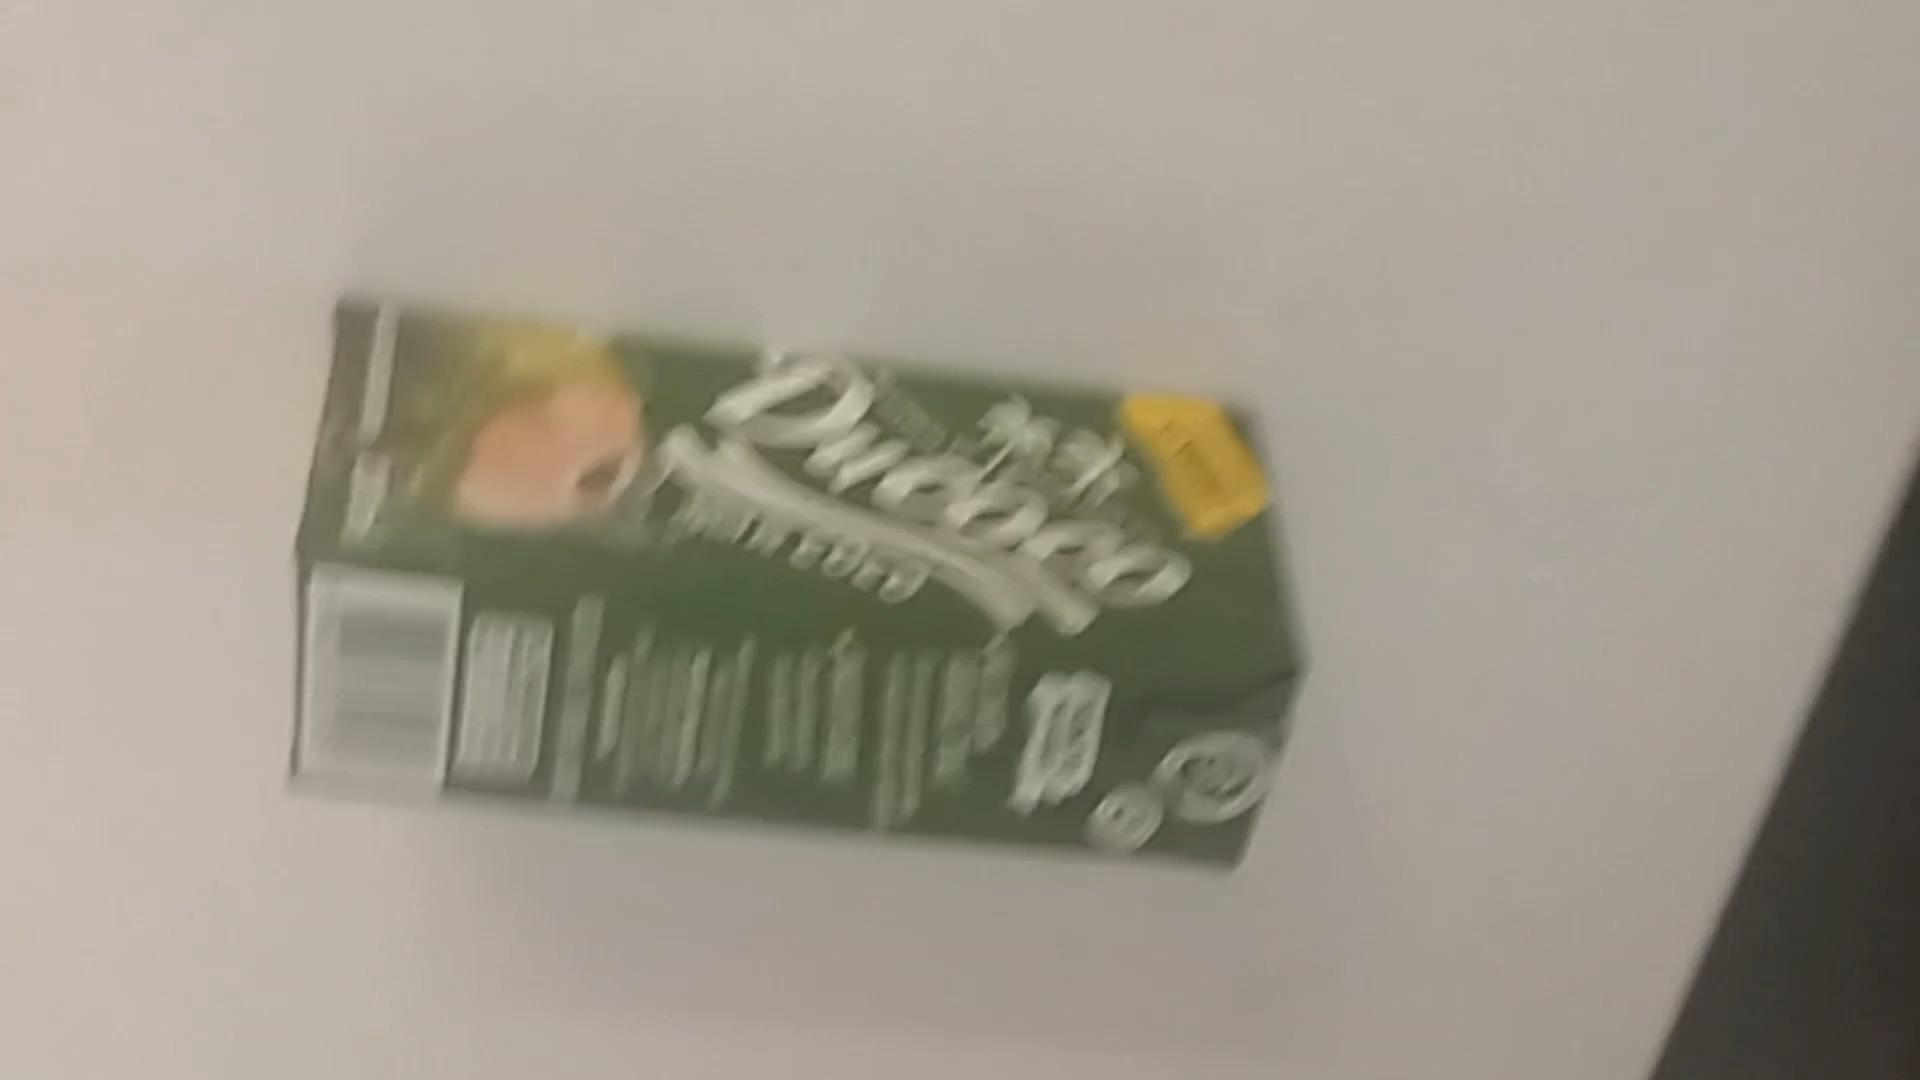coco: (273, 287, 1315, 882)
